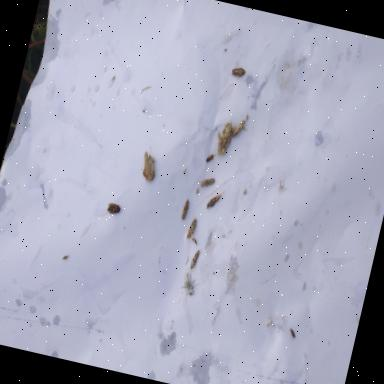pbw: (204, 188, 224, 212), (232, 115, 248, 140), (186, 219, 198, 242), (197, 176, 214, 192), (188, 249, 200, 271), (106, 202, 121, 218), (230, 66, 246, 80), (180, 200, 190, 222), (140, 150, 150, 169)
